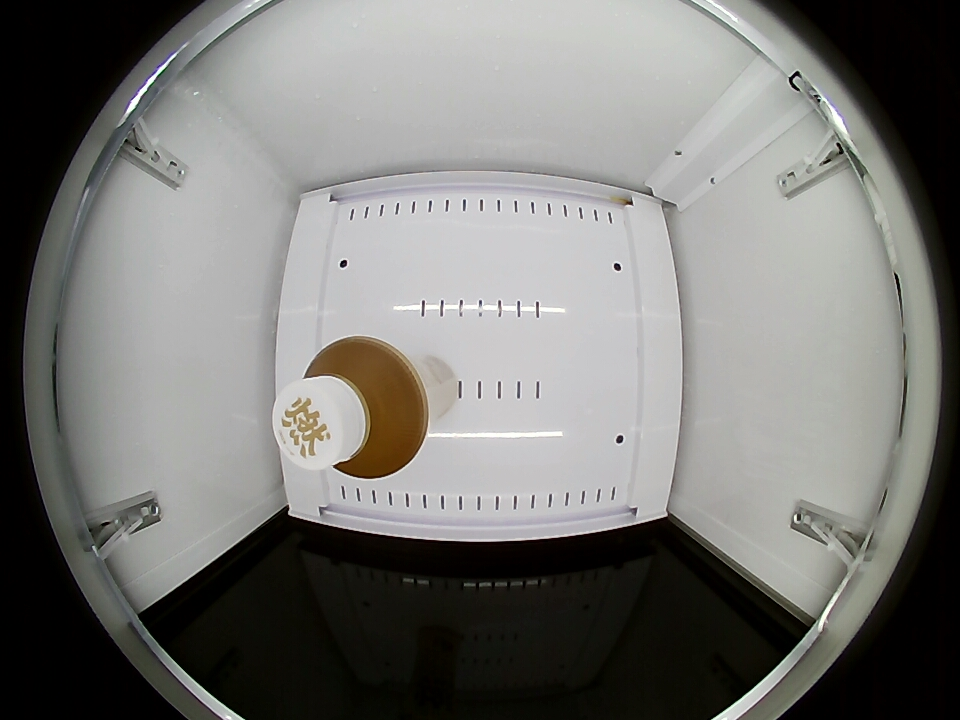rancha-2: (274, 337, 432, 478)
